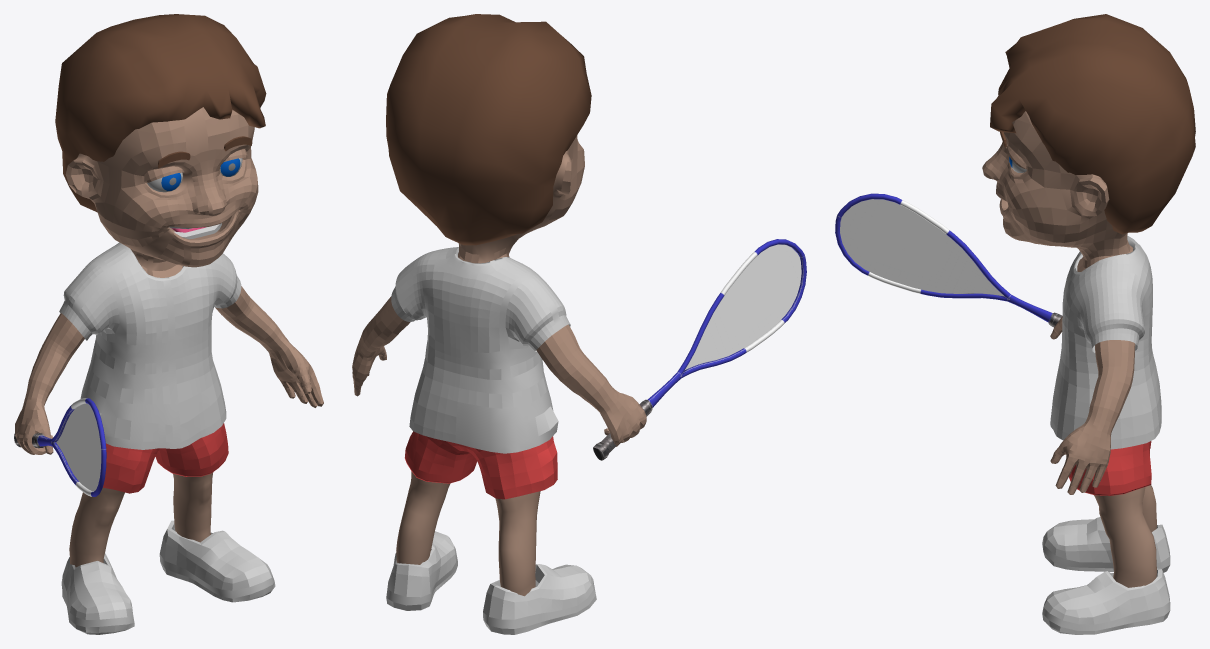
The model's file is player_6.dae.
3 renders of one model, left to right at view 1: azimuth 30°, elevation 25°; view 2: azimuth 150°, elevation 25°; view 3: azimuth 270°, elevation 25°, orthographic. The views are drawn at different scales.
Parts seen in each view (by area): view 1: t_Shirt, hair, hand, shoeLeft, legs, shoeRight, polySurface16, Racket, handRight, handLeft, eyeRight; view 2: hair, t_Shirt, Racket, legs, polySurface16, shoeRight, handRight, shoeLeft, hand, handLeft; view 3: hair, t_Shirt, Racket, hand, handLeft, shoeLeft, legs, shoeRight, polySurface16.
Boxes of the visible parts, x1,y1,x2,y2 form: t_Shirt: (59, 242, 241, 449); hair: (55, 14, 266, 212); hand: (65, 107, 258, 277); shoeLeft: (159, 520, 275, 602); legs: (69, 472, 213, 567); shoeRight: (61, 553, 134, 634); polySurface16: (103, 423, 228, 493); Racket: (14, 398, 106, 496); handRight: (15, 313, 84, 454); handLeft: (215, 286, 323, 407); eyeRight: (147, 172, 182, 192); hair: (386, 14, 591, 245); t_Shirt: (391, 247, 570, 453); Racket: (593, 239, 806, 460); legs: (396, 471, 540, 596); polySurface16: (404, 431, 557, 499); shoeRight: (483, 564, 596, 634); handRight: (536, 324, 646, 446); shoeLeft: (386, 531, 457, 610); hand: (458, 135, 584, 263); handLeft: (352, 296, 410, 396); hair: (990, 14, 1195, 234); t_Shirt: (1050, 235, 1161, 449); Racket: (835, 193, 1062, 327); hand: (982, 111, 1133, 271); handLeft: (1050, 340, 1135, 494); shoeLeft: (1042, 568, 1170, 634); legs: (1094, 485, 1156, 587); shoeRight: (1042, 517, 1170, 572); polySurface16: (1069, 441, 1151, 495).
Size of the model in its own units: 104 by 170 by 99.
